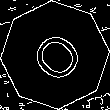O_SE: (21, 22, 89, 88)
